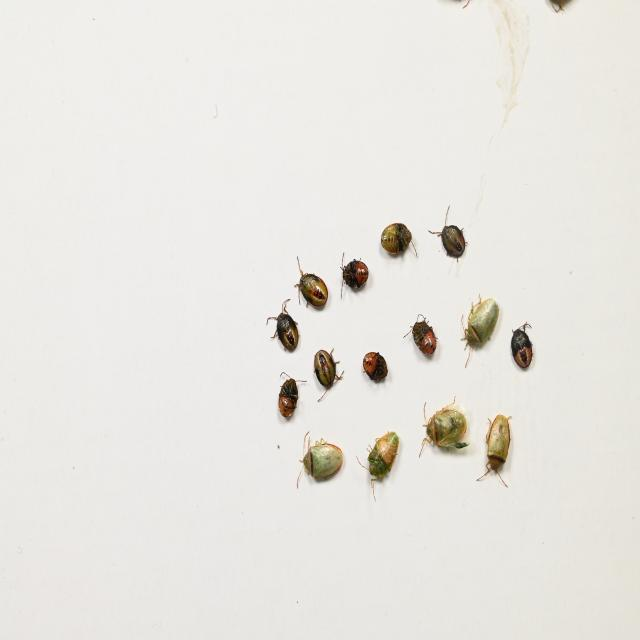stinkbug: (419, 393, 469, 458), (296, 429, 344, 491), (462, 292, 500, 369), (356, 431, 399, 499), (476, 411, 512, 488)
